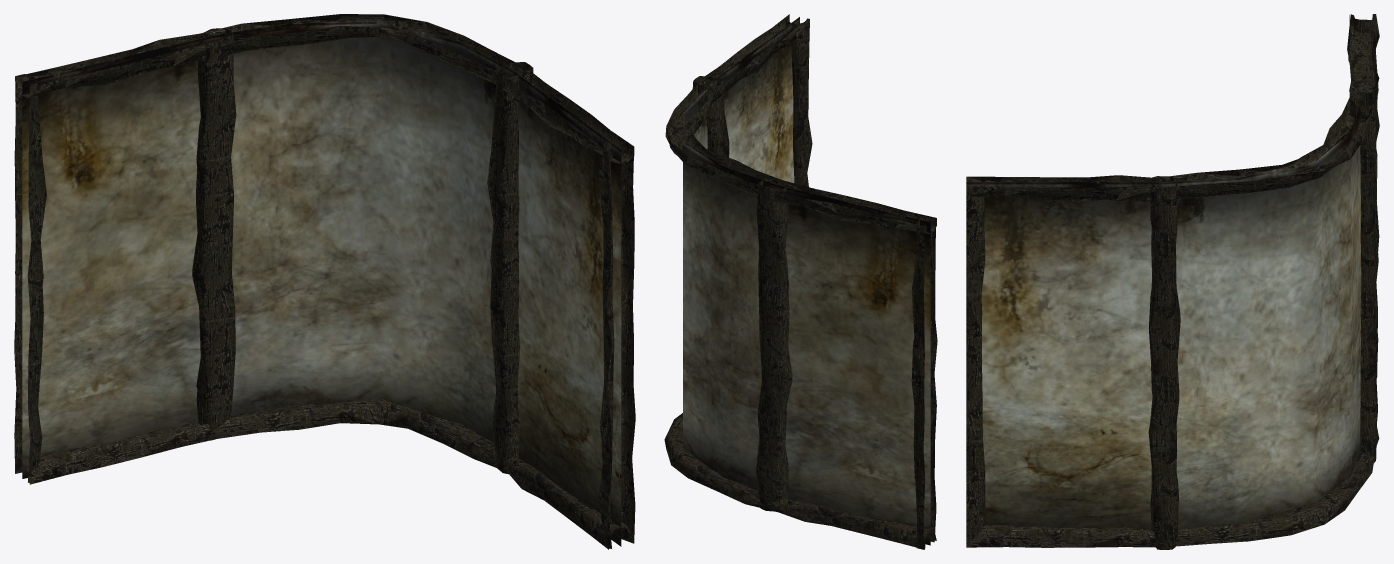
File: corner_concave_round_extension.dae
3 renders of one model, left to right at view 1: azimuth 30°, elevation 25°; view 2: azimuth 150°, elevation 25°; view 3: azimuth 270°, elevation 25°, orthographic. The views are drawn at different scales.
Parts seen in each view (by area): view 1: pPlane11, polySurface24; view 2: pPlane11, polySurface24; view 3: pPlane11, polySurface24.
Boxes of the visible parts, box(x1,y1,x2,y2) form: pPlane11: box(22, 21, 621, 546); polySurface24: box(14, 14, 635, 549); pPlane11: box(683, 17, 930, 545); polySurface24: box(664, 14, 937, 549); pPlane11: box(966, 99, 1363, 529); polySurface24: box(966, 14, 1379, 549).
Size of the model in its own units: 4.21 by 4 by 4.16.
